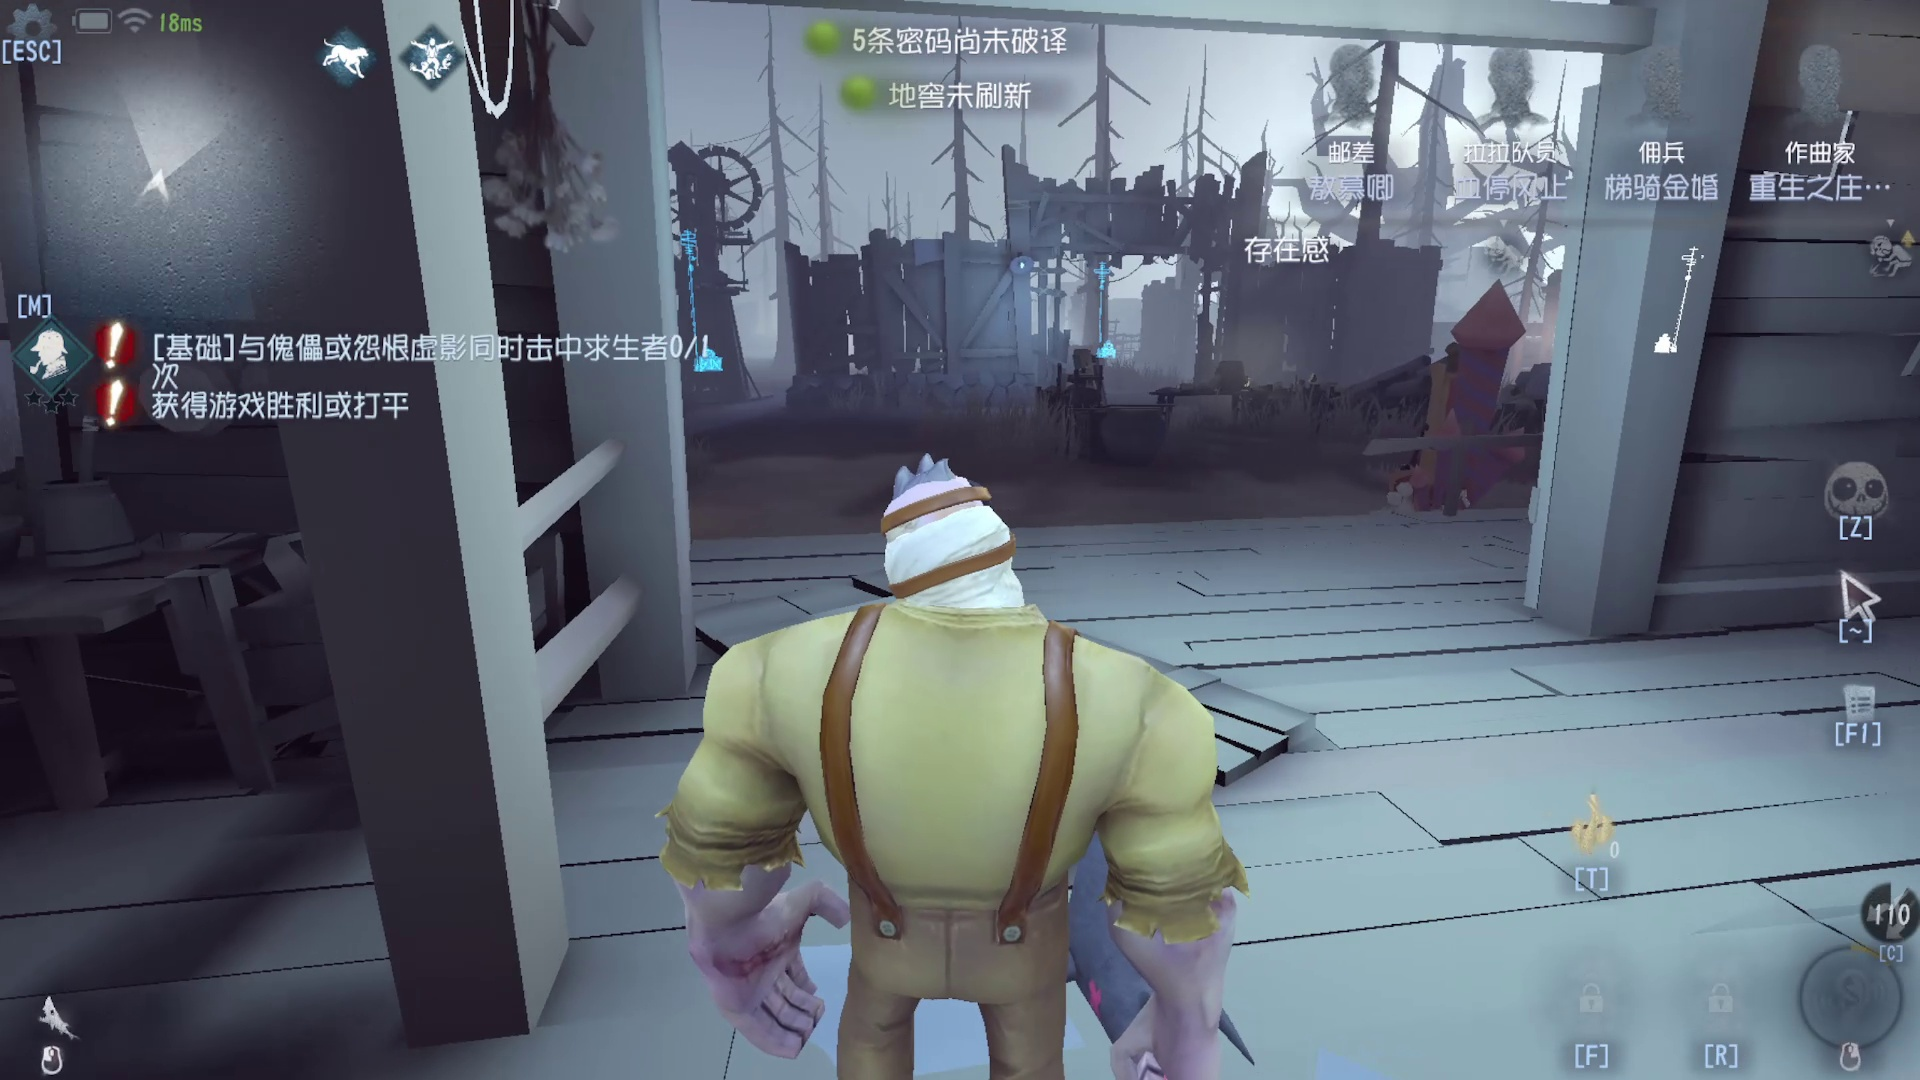密码机: (646, 223, 746, 390), (1055, 241, 1139, 380), (1659, 232, 1702, 356)
狂欢之椅: (1371, 294, 1542, 524)
